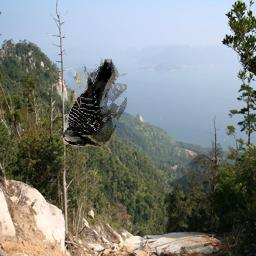Woodpecker: (61, 57, 127, 147)
